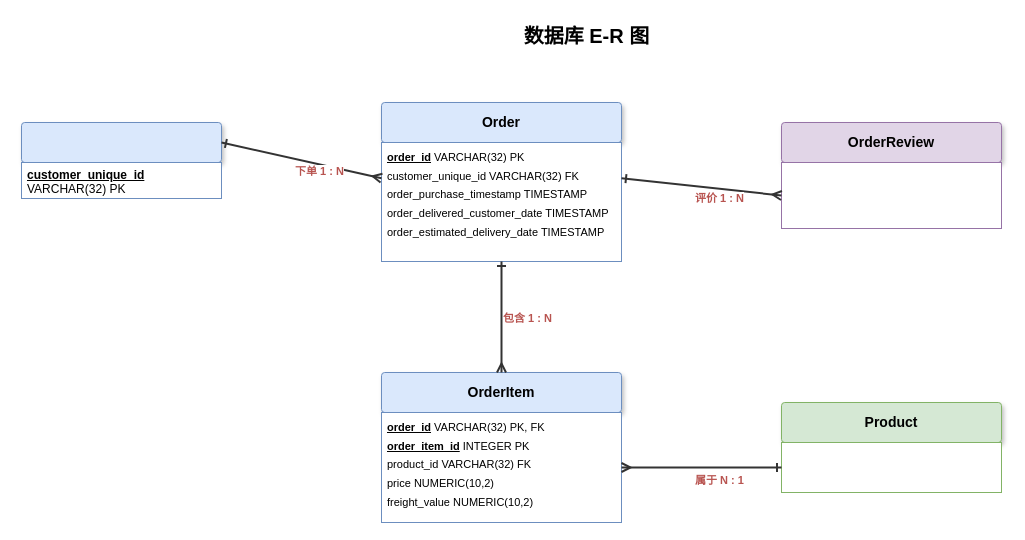
Some shapes in this 1025 by 540 pixel diagram are drawn without their labels. The centre of each missing label's shape, as x and y in pixels:
"Customer" goes at point 122,144.
"product_id VARCHAR(32) PK product_category_name VARCHAR(100)" goes at point 891,467.
"review_id VARCHAR(32) PK order_id VARCHAR(32) PK, FK review_score SMALLINT" goes at point 891,195.
